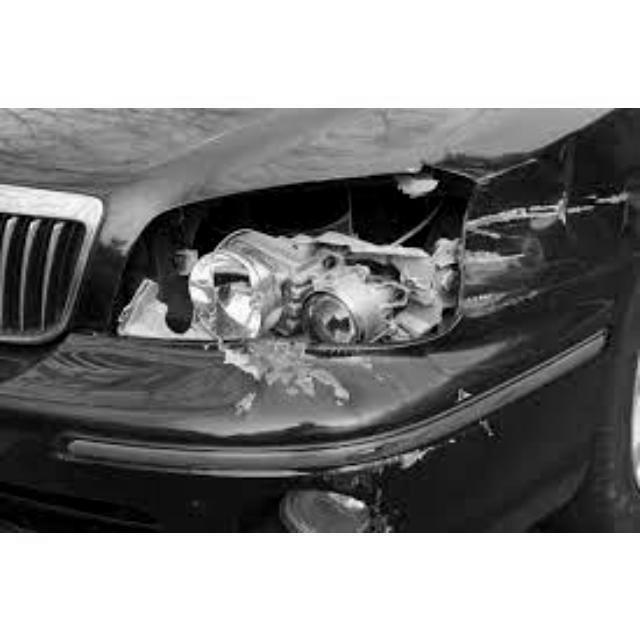Headlight-damage: (119, 177, 475, 367)
fender-dent: (461, 117, 637, 440)
front-bumper-dent: (1, 342, 550, 530)
